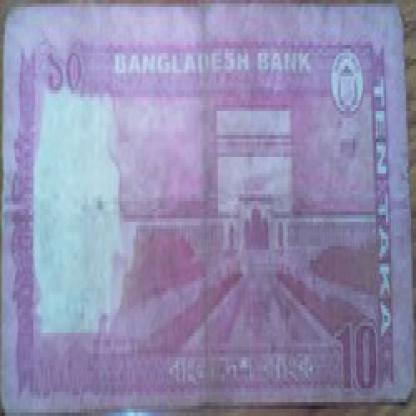Ten Taka: (42, 35, 100, 118), (332, 316, 385, 402)
